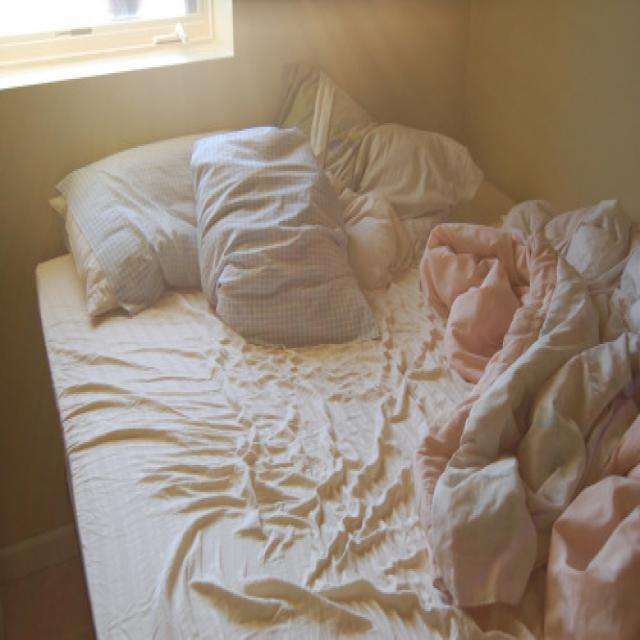bed: (39, 69, 637, 640)
